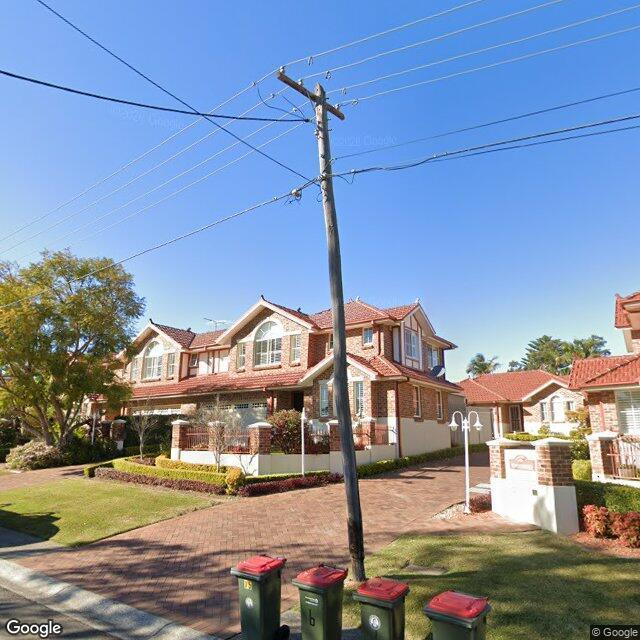crossarm: (276, 69, 346, 122)
timber-pole: (312, 84, 365, 585)
